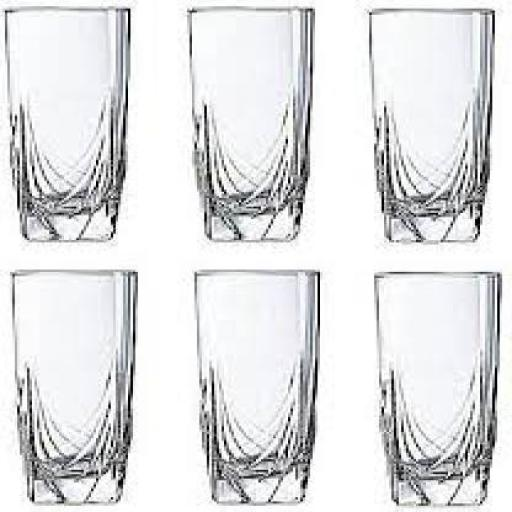glass: (192, 268, 318, 504), (367, 4, 492, 241), (184, 4, 308, 241), (2, 4, 126, 241), (10, 270, 133, 504), (372, 268, 494, 502)
